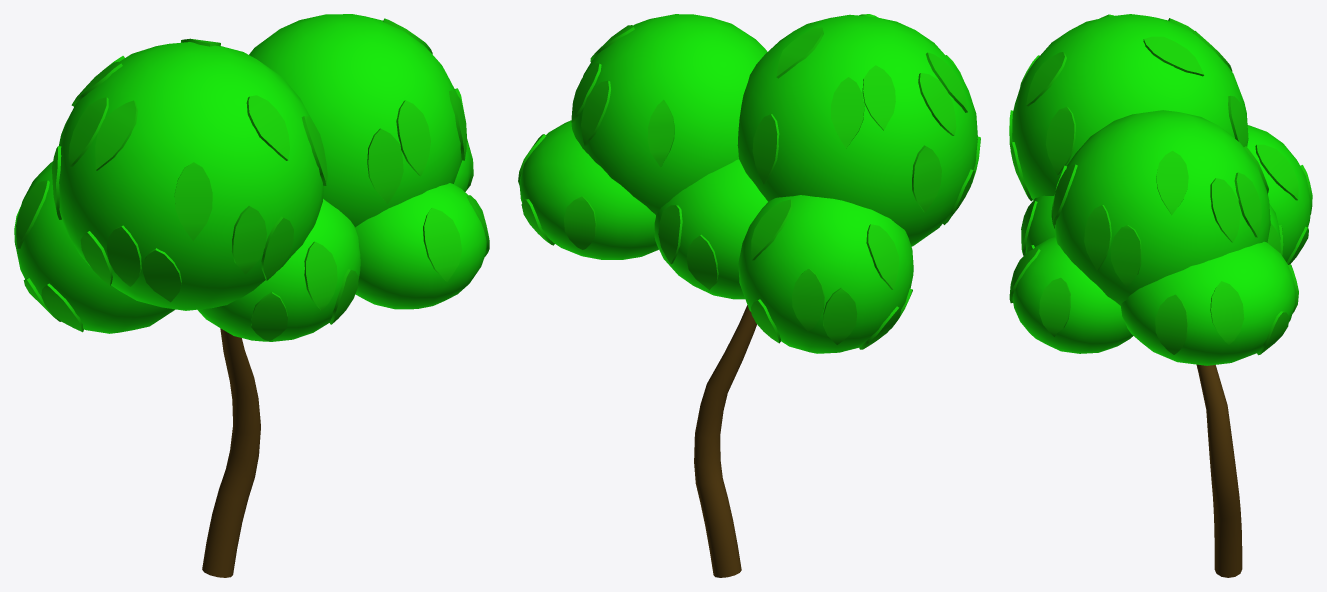
The model's file is Apple_lvl4.fbx.
The picture shows the model from 3 angles, left to right: view 1: azimuth 30°, elevation 25°; view 2: azimuth 150°, elevation 25°; view 3: azimuth 270°, elevation 25°; orthographic projection. The views are drawn at different scales.
Parts seen in each view (by area): view 1: Apple_tree_lvl4_LOD0; view 2: Apple_tree_lvl4_LOD0; view 3: Apple_tree_lvl4_LOD0.
Boxes of the visible parts, x1=… form: Apple_tree_lvl4_LOD0: x1=14, y1=14, x2=489, y2=577; Apple_tree_lvl4_LOD0: x1=518, y1=14, x2=980, y2=577; Apple_tree_lvl4_LOD0: x1=1009, y1=14, x2=1312, y2=577.
Size of what is drawn, in the model's own units: 366 by 255 by 474.
